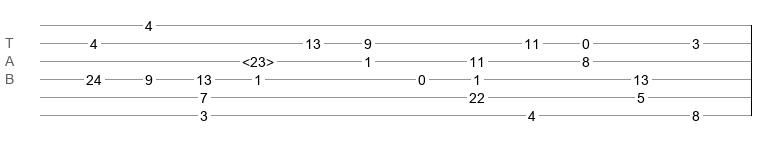0: (418, 72, 426, 82), (582, 36, 590, 46)
1: (254, 72, 262, 82), (364, 54, 372, 64), (473, 72, 481, 82)
11: (469, 54, 485, 64), (524, 36, 540, 46)
13: (196, 72, 212, 82), (305, 36, 321, 46), (633, 72, 649, 82)
22: (469, 90, 485, 100)
24: (86, 72, 102, 82)
3: (200, 108, 208, 118), (692, 36, 700, 46)
4: (90, 36, 98, 46), (145, 18, 153, 28), (528, 108, 536, 118)
5: (637, 90, 645, 100)
7: (200, 90, 208, 100)
8: (582, 54, 590, 64), (692, 108, 700, 118)
9: (145, 72, 153, 82), (364, 36, 372, 46)
harmonic: (242, 54, 274, 64)
